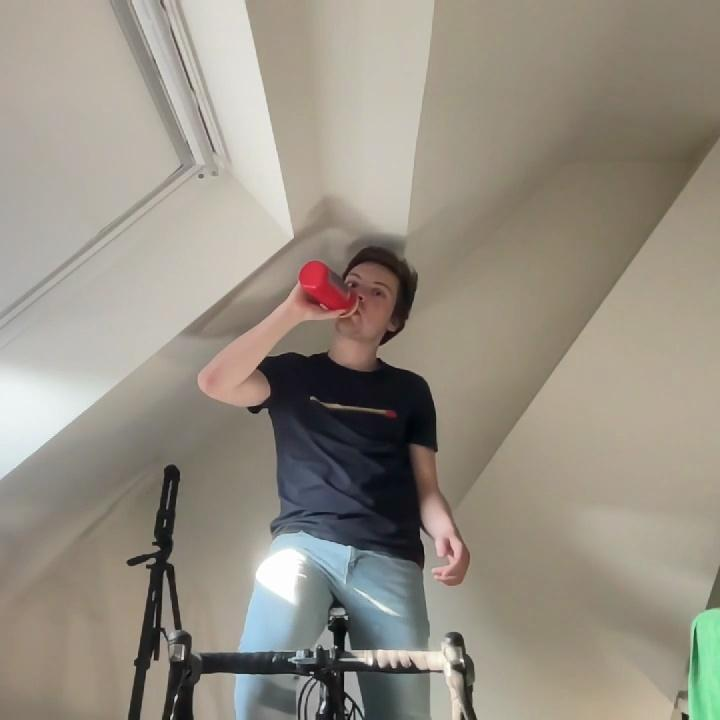Drinking: (289, 261, 402, 343)
